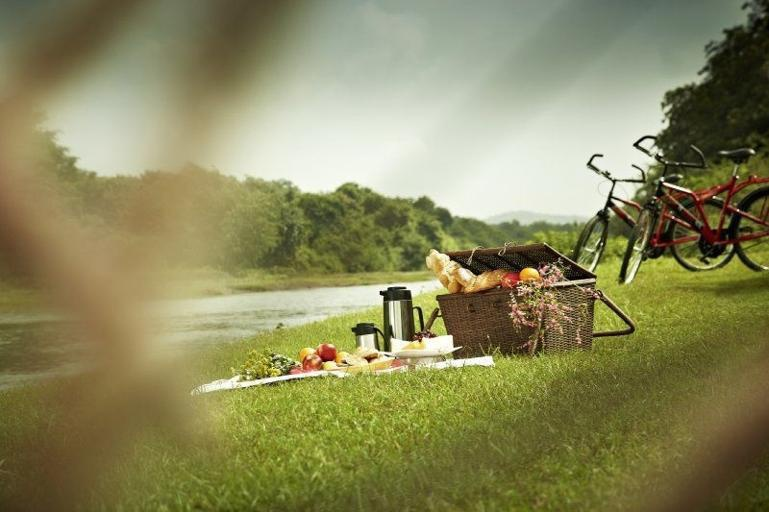non-vehicle: (615, 133, 767, 284), (568, 151, 738, 277)
